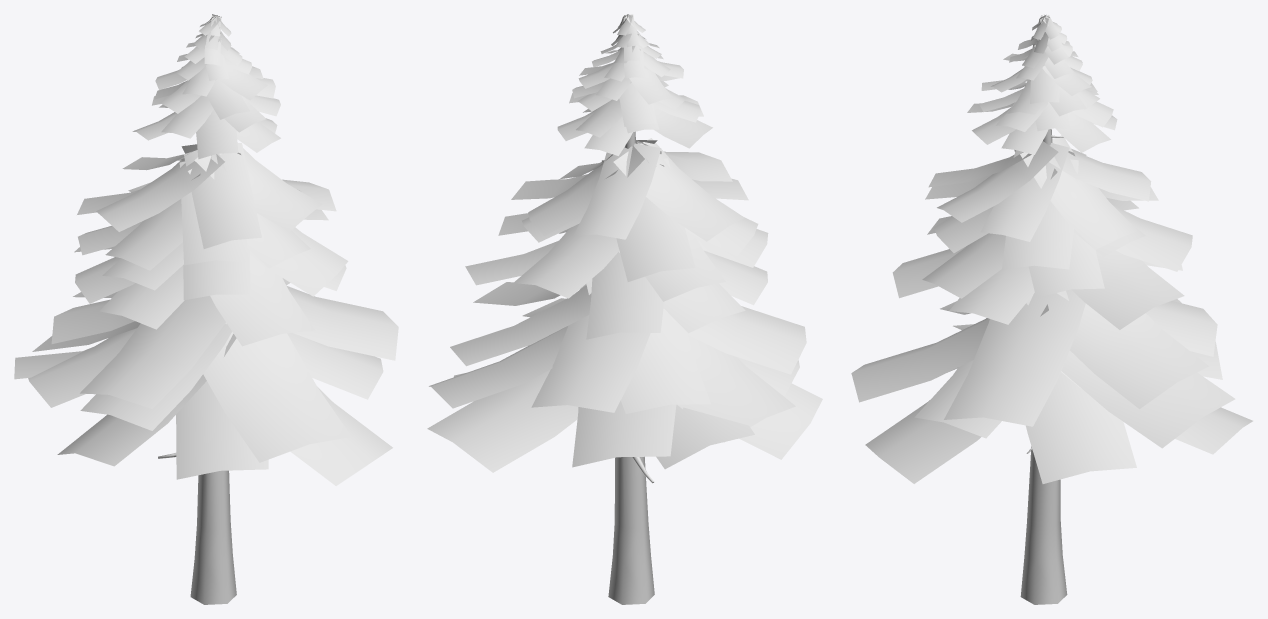
The model's file is STPine4.glb.
The picture shows the model from 3 angles, left to right: view 1: azimuth 30°, elevation 25°; view 2: azimuth 150°, elevation 25°; view 3: azimuth 270°, elevation 25°; orthographic projection.
Visible parts, largest first — view 1: PineTree4; view 2: PineTree4; view 3: PineTree4.
Part boxes in pixels (x1,y1,x2,y2): PineTree4: [14, 14, 398, 604]; PineTree4: [427, 14, 822, 604]; PineTree4: [851, 14, 1252, 604].
Bounding box in the file's own units: 7.46 × 12.62 × 7.91.
Materials: 2 (1 with a texture image).
